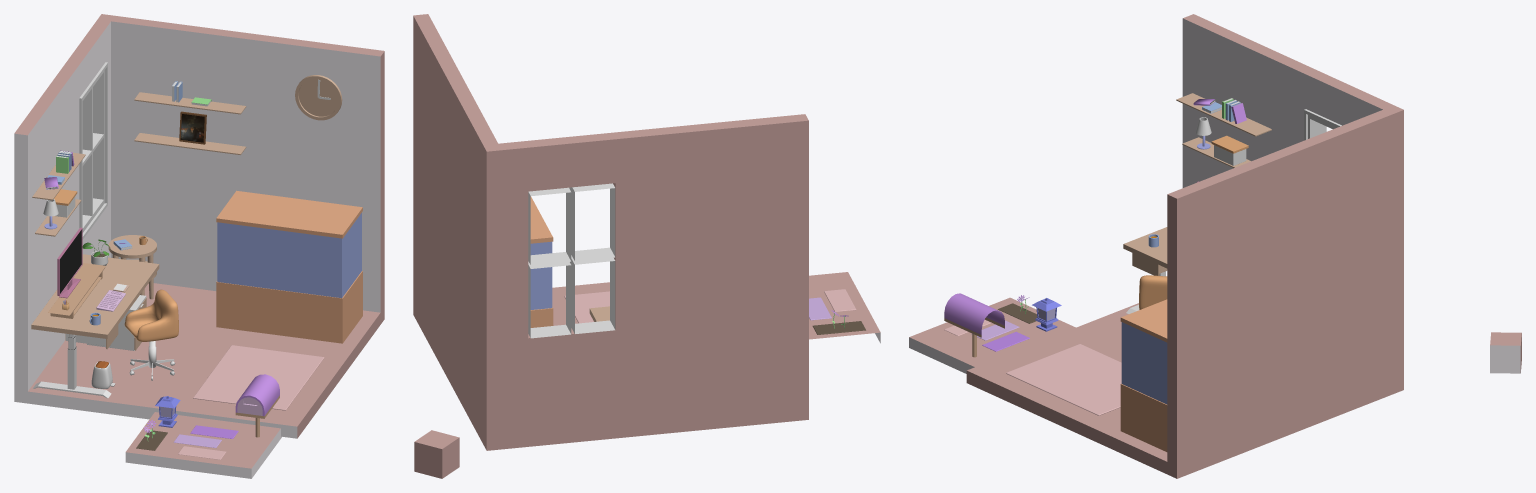
File: Finale Version 16.glb
3 renders of one model, left to right at view 1: azimuth 30°, elevation 25°; view 2: azimuth 150°, elevation 25°; view 3: azimuth 270°, elevation 25°, orthographic. The views are drawn at different scales.
Parts seen in each view (by area): view 1: Body, Aquarium, Desks, Floor Items, Mini Floor, Shelves, Table Stuff, Chair, Clock, Mailbox, Computer, Lamp (+4 smaller); view 2: Body, Mini Floor, Aquarium, Cube, Floor Items, Dirt, FloorThird; view 3: Body, Aquarium, Floor Items, Mini Floor, Shelves, Mailbox, Desks, Cube, Chair, Lamp.
Part boxes in pixels (x1,y1,x2,y2): Body: (14, 14, 384, 438); Aquarium: (216, 190, 362, 343); Desks: (31, 235, 159, 398); Floor Items: (87, 295, 324, 410); Mini Floor: (125, 412, 281, 478); Shelves: (32, 81, 246, 236); Table Stuff: (48, 236, 147, 325); Chair: (124, 289, 178, 341); Clock: (295, 75, 342, 120); Mailbox: (235, 374, 279, 437); Computer: (57, 227, 82, 298); Lamp: (155, 396, 180, 427); Body: (413, 14, 808, 450); Mini Floor: (809, 272, 880, 343); Aquarium: (530, 196, 553, 327); Cube: (414, 430, 459, 478); Floor Items: (564, 291, 609, 323); Dirt: (812, 321, 865, 334); FloorThird: (824, 289, 856, 311); Body: (966, 14, 1403, 478); Aquarium: (1120, 299, 1167, 451); Floor Items: (1006, 344, 1121, 415); Mini Floor: (909, 297, 1075, 373); Shelves: (1176, 93, 1271, 167); Mailbox: (944, 293, 1004, 357); Desks: (1123, 227, 1167, 313); Cube: (1490, 332, 1521, 373); Chair: (1139, 275, 1167, 309); Lamp: (1032, 298, 1061, 331).
Bounding box in the file's own units: 27.58 × 19.65 × 38.64.
Materials: 42 (1 with a texture image).
